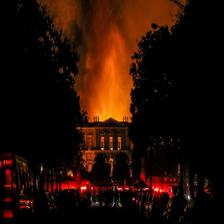fire: (80, 34, 138, 122)
